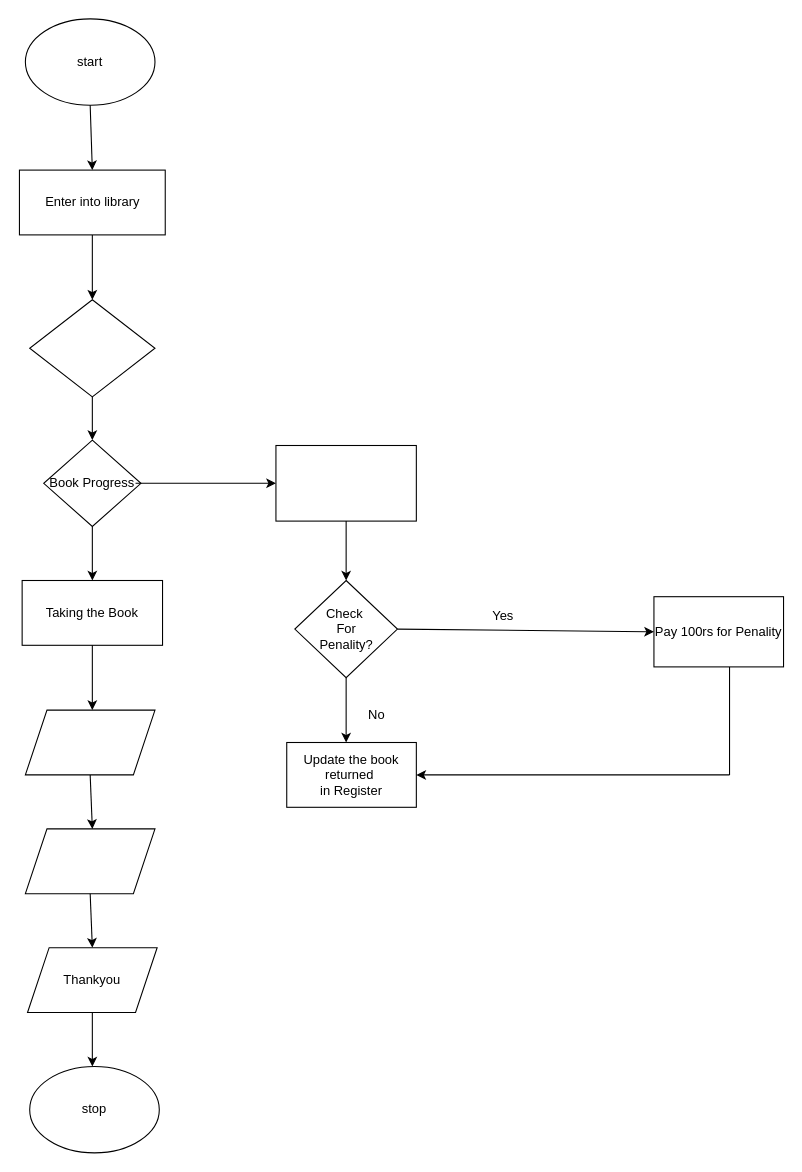
Image size: 802x1172. Some labels were removed from this diagram. Each missing label, with the centre of its shape:
"Check ID" belongs at (x=92, y=348).
"Keep the ID at the Basket" belongs at (x=89, y=861).
"Return the Book" belongs at (x=345, y=482).
"update date and time and details of Book" belongs at (x=89, y=742).
